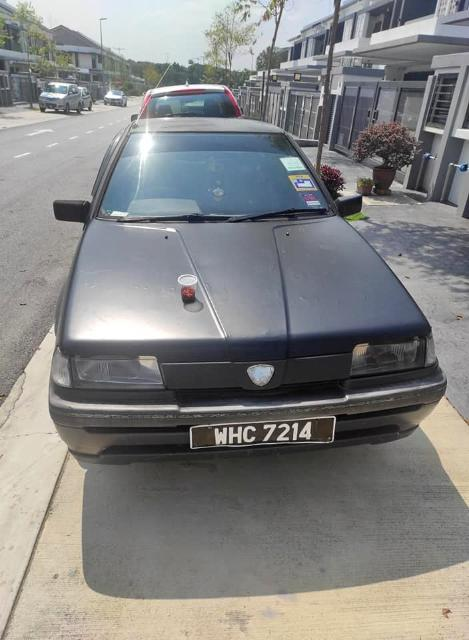License_Plate: (191, 422, 333, 453)
car: (46, 111, 456, 491)
